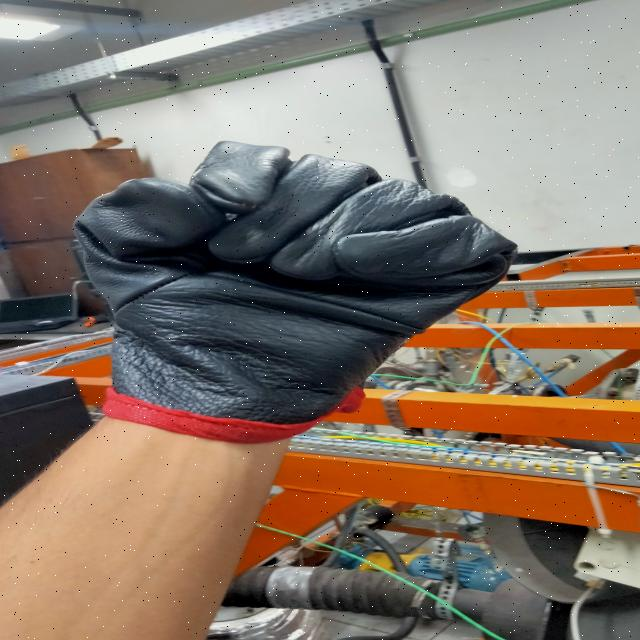Gloves: (67, 140, 506, 430)
